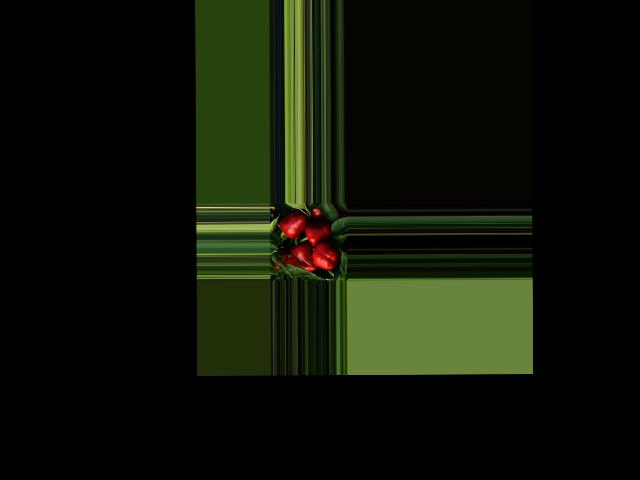bell_pepper: (311, 235, 338, 272)
